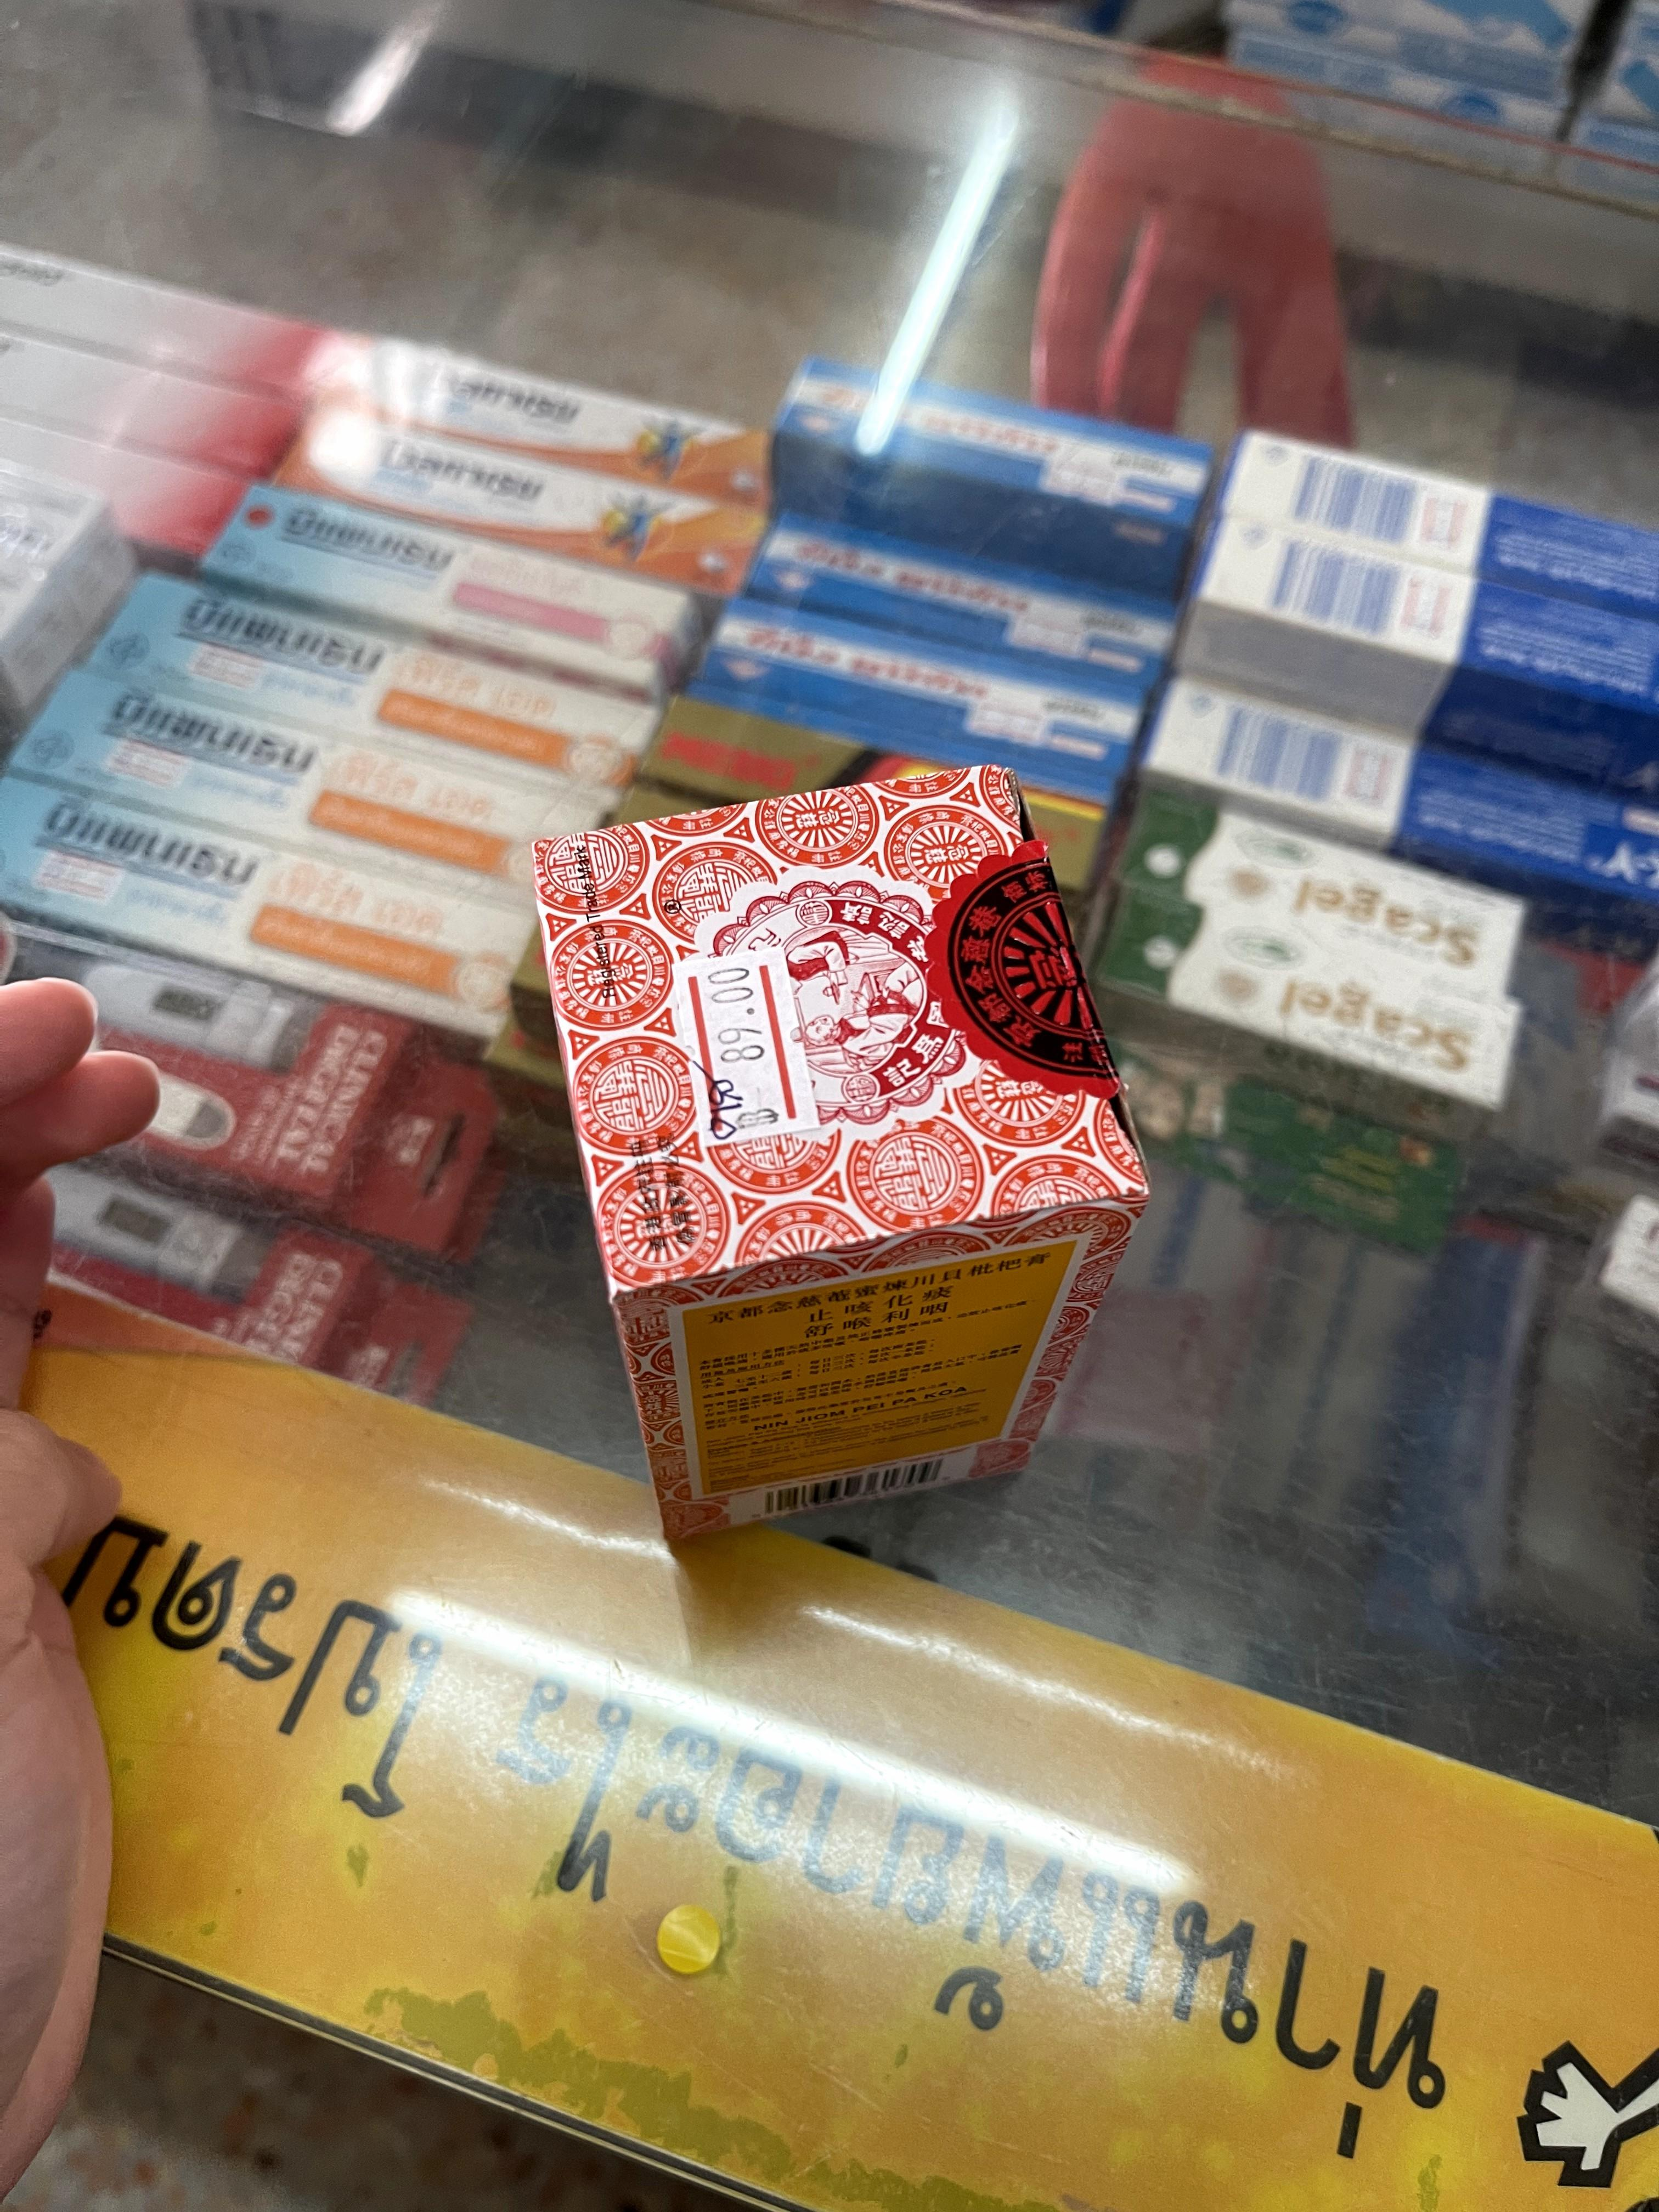Pei-Pa-Koa: (532, 768, 1143, 1540)
